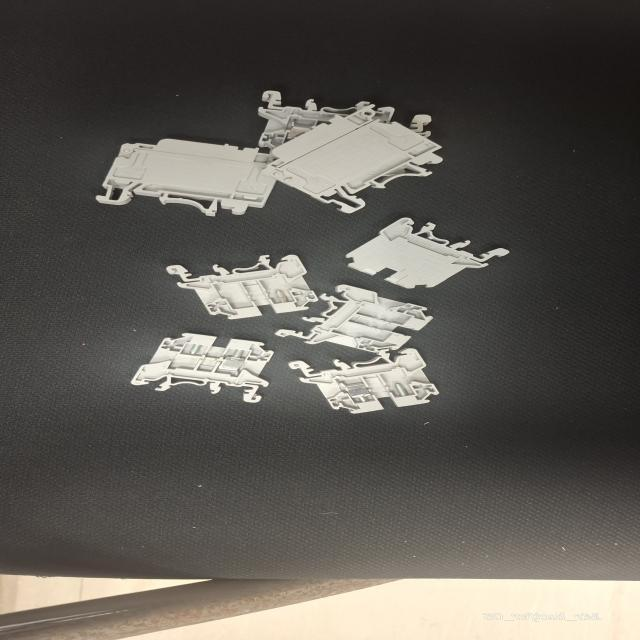Inverted: (344, 216, 518, 290)
Reject: (272, 284, 436, 352), (283, 348, 440, 414), (165, 253, 318, 320), (130, 332, 274, 403)
